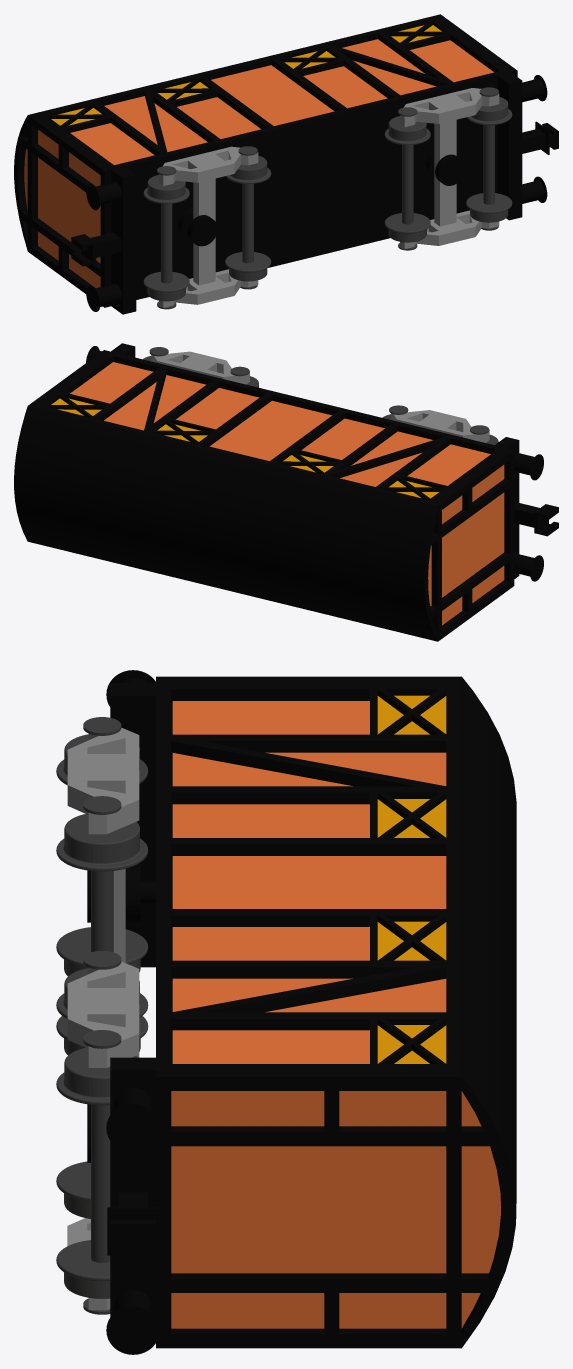
The model's file is wagon_couvert.fbx.
The picture shows the model from 3 angles, top to bottom: view 1: azimuth 30°, elevation 25°; view 2: azimuth 150°, elevation 25°; view 3: azimuth 270°, elevation 25°; orthographic projection. The views are drawn at different scales.
Visible parts, largest first — view 1: wagon_couvert, CoteGaucheWagon, partie_centrale_bogieAvant, partie_centrale_bogieArriere, ArriereWagon, roue_bogieArriere1, roue_bogieAvant1, roue_bogieArriere2, roue_bogieAvant2; view 2: wagon_couvert, CoteGaucheWagon, ArriereWagon, partie_centrale_bogieArriere, partie_centrale_bogieAvant; view 3: wagon_couvert, AvantWagon, CoteGaucheWagon, roue_bogieAvant2, partie_centrale_bogieArriere, roue_bogieArriere2, partie_centrale_bogieAvant, roue_bogieArriere1, roue_bogieAvant1, CroixCoteGauche2, CroixCoteGauche4, CroixCoteGauche1 (+1 smaller).
Boxes of the visible parts, x1=… form: wagon_couvert: x1=14, y1=14, x2=558, y2=314; CoteGaucheWagon: x1=70, y1=39, x2=493, y2=164; partie_centrale_bogieAvant: x1=400, y1=88, x2=499, y2=249; partie_centrale_bogieArriere: x1=159, y1=146, x2=258, y2=307; ArriereWagon: x1=24, y1=130, x2=100, y2=288; roue_bogieArriere1: x1=143, y1=166, x2=189, y2=309; roue_bogieAvant1: x1=384, y1=107, x2=430, y2=250; roue_bogieArriere2: x1=225, y1=146, x2=271, y2=289; roue_bogieAvant2: x1=466, y1=87, x2=512, y2=230; wagon_couvert: x1=14, y1=343, x2=558, y2=641; CoteGaucheWagon: x1=70, y1=362, x2=490, y2=486; ArriereWagon: x1=428, y1=465, x2=504, y2=625; partie_centrale_bogieArriere: x1=391, y1=410, x2=489, y2=442; partie_centrale_bogieAvant: x1=151, y1=351, x2=249, y2=384; wagon_couvert: x1=87, y1=670, x2=516, y2=1354; AvantWagon: x1=171, y1=1091, x2=500, y2=1328; CoteGaucheWagon: x1=172, y1=701, x2=446, y2=1063; roue_bogieAvant2: x1=56, y1=1030, x2=137, y2=1314; partie_centrale_bogieArriere: x1=67, y1=727, x2=139, y2=1057; roue_bogieArriere2: x1=56, y1=796, x2=148, y2=1055; partie_centrale_bogieAvant: x1=67, y1=961, x2=139, y2=1310; roue_bogieArriere1: x1=56, y1=717, x2=148, y2=976; roue_bogieAvant1: x1=56, y1=951, x2=148, y2=1218; CroixCoteGauche2: x1=377, y1=921, x2=446, y2=960; CroixCoteGauche4: x1=377, y1=695, x2=446, y2=734; CroixCoteGauche1: x1=377, y1=1025, x2=446, y2=1063.
Size of the model in its own units: 7150 by 1960 by 3010.
